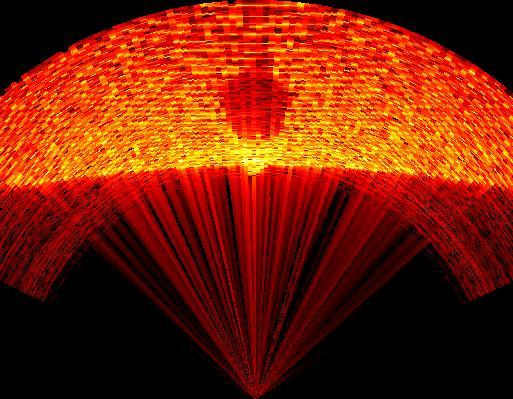box_crate: (223, 61, 292, 141)
